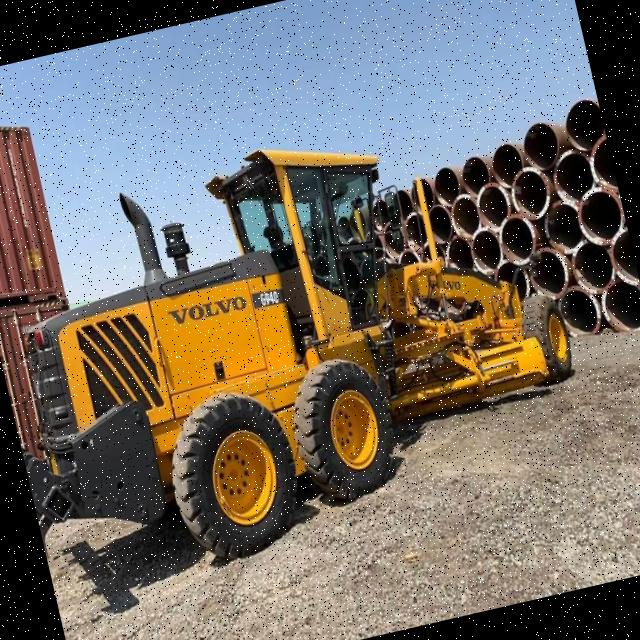Grader: (0, 57, 622, 602)
